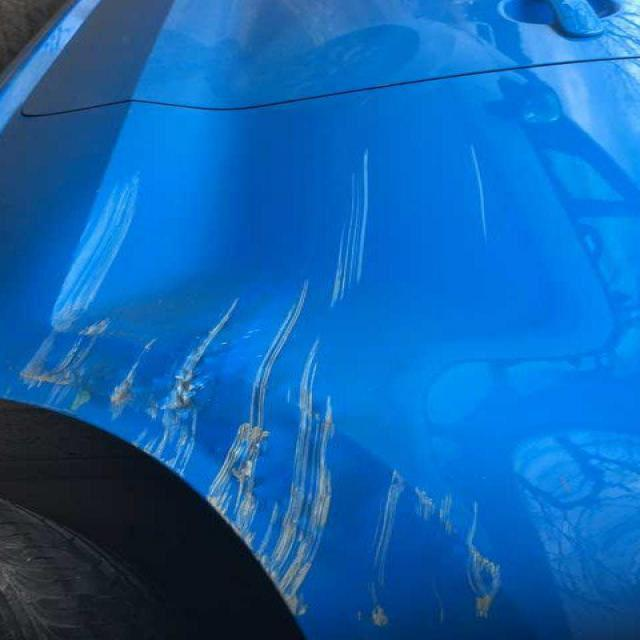scratch: (22, 175, 338, 607), (358, 459, 524, 640), (330, 136, 384, 302), (462, 131, 498, 258)
